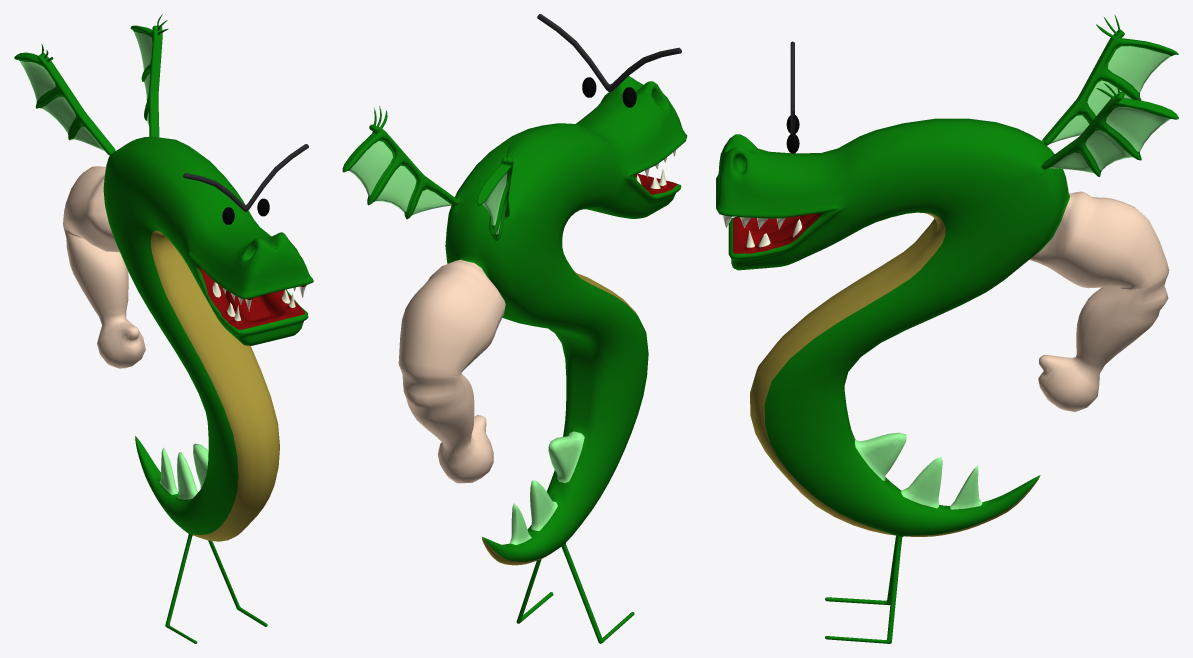
The model's file is Trogdor.fbx.
3 renders of one model, left to right at view 1: azimuth 30°, elevation 25°; view 2: azimuth 150°, elevation 25°; view 3: azimuth 270°, elevation 25°, orthographic. The views are drawn at different scales.
Parts seen in each view (by area): view 1: Trogdor; view 2: Trogdor; view 3: Trogdor.
Part boxes in pixels (<box>): Trogdor: <box>14,14,313,643</box>; Trogdor: <box>342,14,687,643</box>; Trogdor: <box>716,14,1178,643</box>.
Bounding box in the file's own units: 69.1 × 272 × 197.
